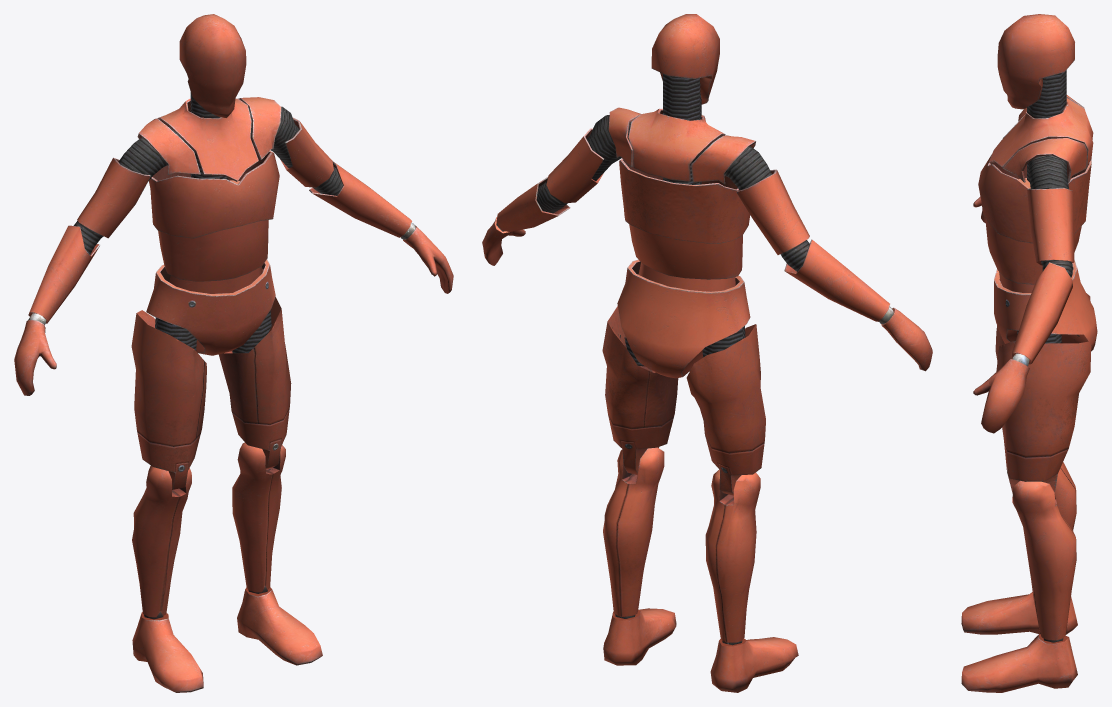
File: char_dummy.glb
The picture shows the model from 3 angles, left to right: view 1: azimuth 30°, elevation 25°; view 2: azimuth 150°, elevation 25°; view 3: azimuth 270°, elevation 25°; orthographic projection. The views are drawn at different scales.
Parts seen in each view (by area): view 1: Object_2; view 2: Object_2; view 3: Object_2.
Boxes of the visible parts, <box> form: Object_2: <box>14,14,453,692</box>; Object_2: <box>482,14,932,692</box>; Object_2: <box>961,14,1097,692</box>.
Bounding box in the file's own units: 1.29 × 1.8 × 0.3468.
1 material, 1 textured.
